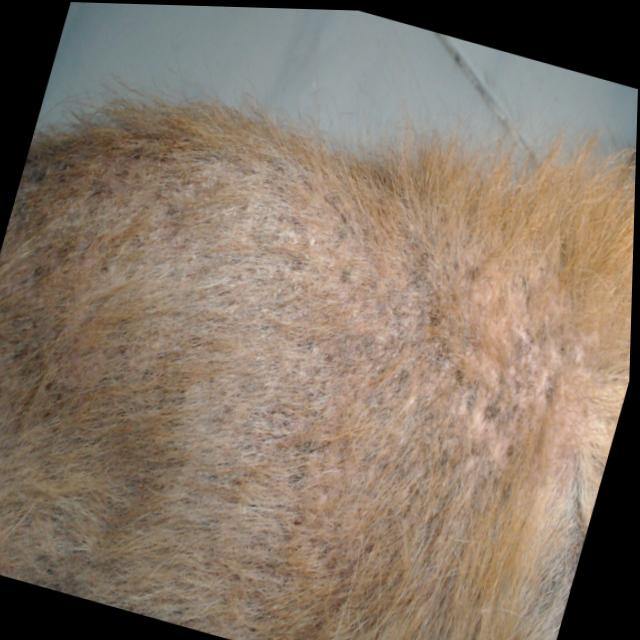demodicosis: (353, 229, 625, 566), (92, 129, 370, 441)
